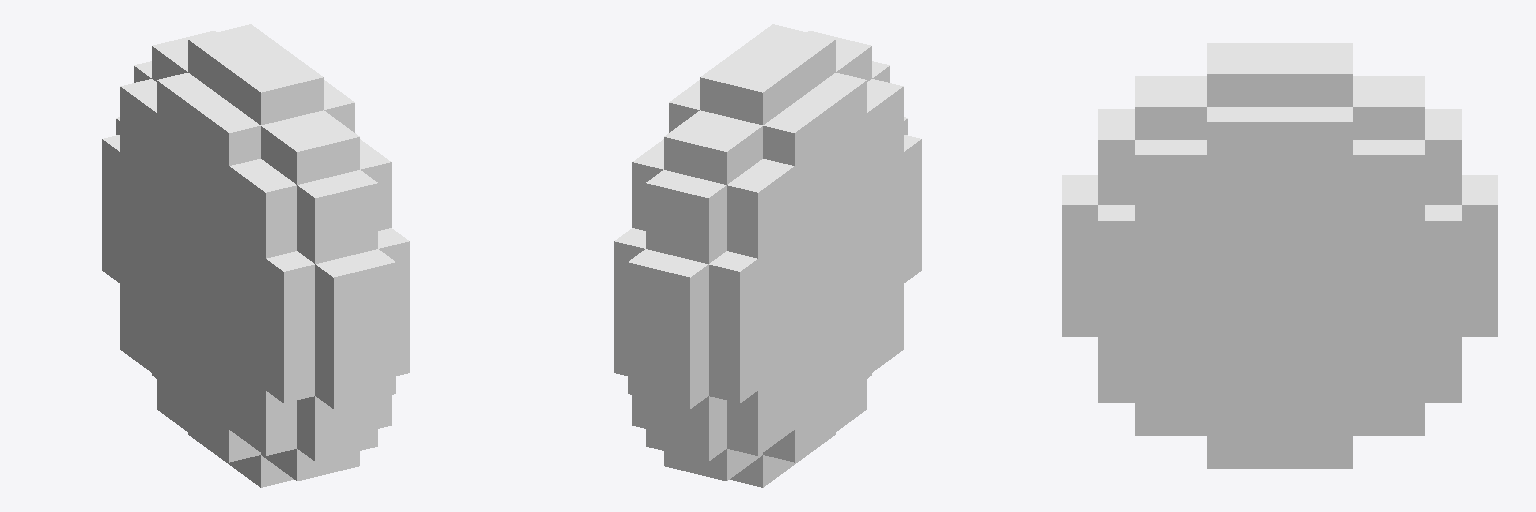
Rendered from TruckWheel.obj.
3 renders of one model, left to right at view 1: azimuth 30°, elevation 25°; view 2: azimuth 150°, elevation 25°; view 3: azimuth 270°, elevation 25°, orthographic.
Parts seen in each view (by area): view 1: object 1; view 2: object 1; view 3: object 1.
Part boxes in pixels (left/top/right/bottom): object 1: left=102, top=24, right=409, bottom=487; object 1: left=614, top=24, right=921, bottom=487; object 1: left=1062, top=43, right=1497, bottom=468.
Size of the model in its own units: 0.4 by 1.2 by 1.2.